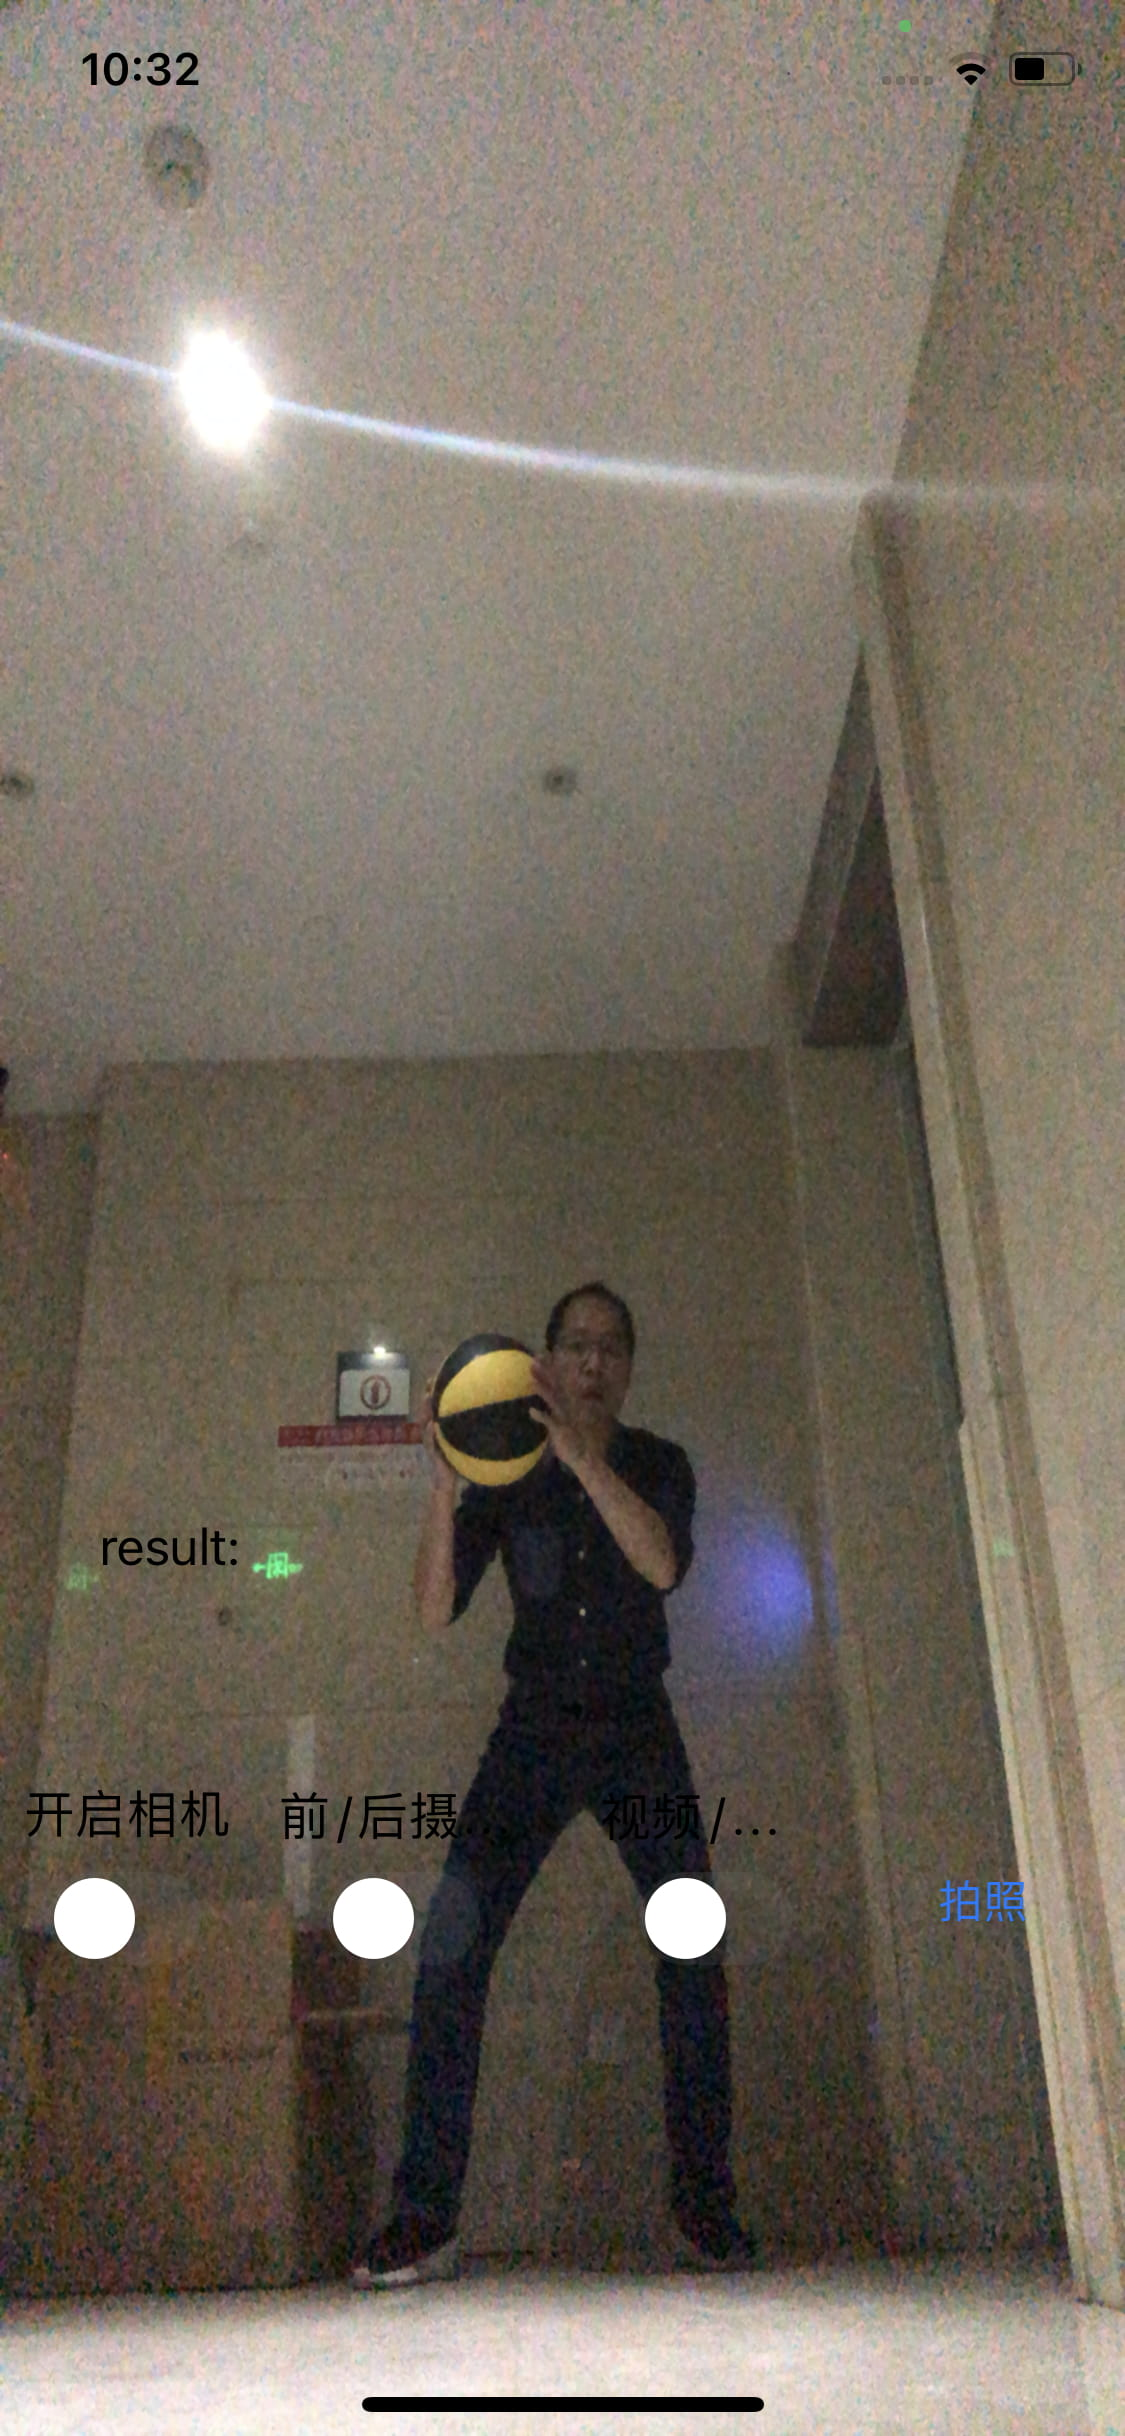ball: (427, 1331, 555, 1488)
